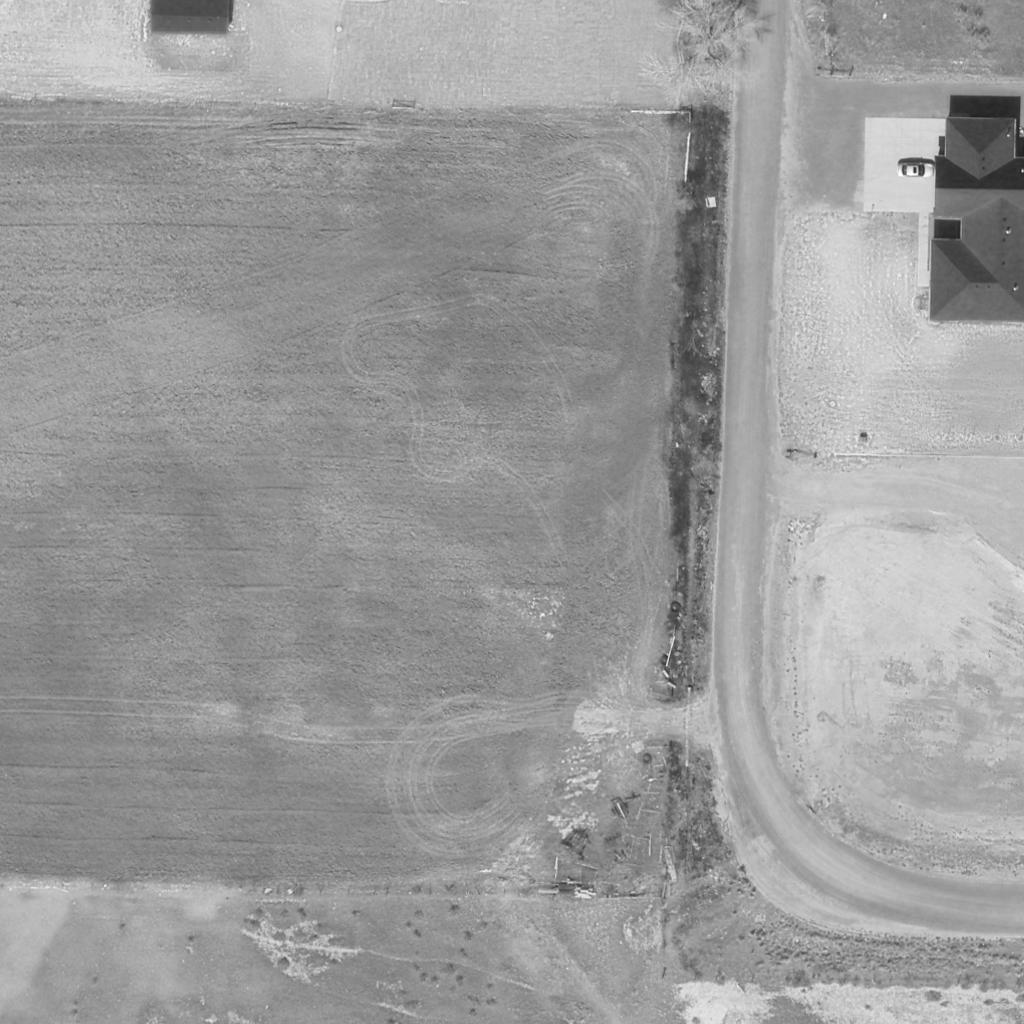vehicle: (897, 164, 935, 178)
